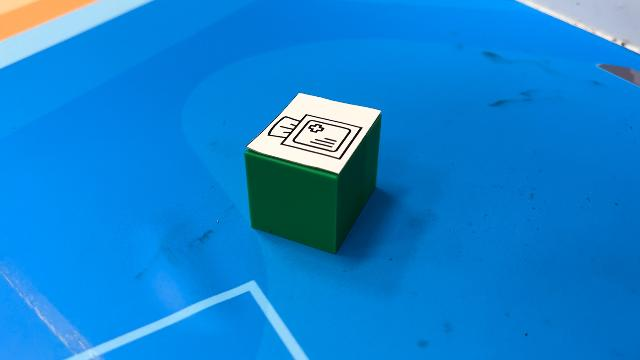napkin: (242, 91, 384, 255)
